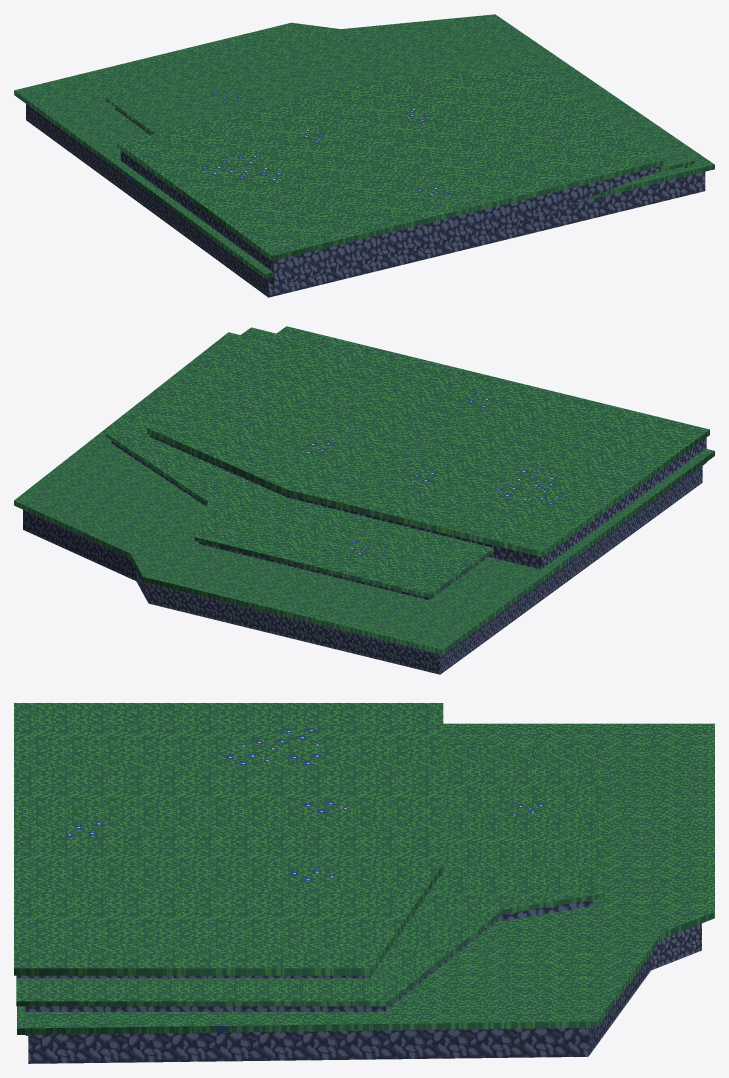
Rendered from FarolEmCima.fbx.
3 renders of one model, top to bottom at view 1: azimuth 30°, elevation 25°; view 2: azimuth 150°, elevation 25°; view 3: azimuth 270°, elevation 25°, orthographic. The views are drawn at different scales.
Visible parts, largest first — view 1: FarolEmCima; view 2: FarolEmCima; view 3: FarolEmCima.
Part boxes in pixels (box(x1,y1,x2,y2)): FarolEmCima: box(14, 14, 714, 297); FarolEmCima: box(14, 326, 714, 674); FarolEmCima: box(14, 703, 714, 1063).
Bounding box in the file's own units: 9690 × 9421 × 942.
